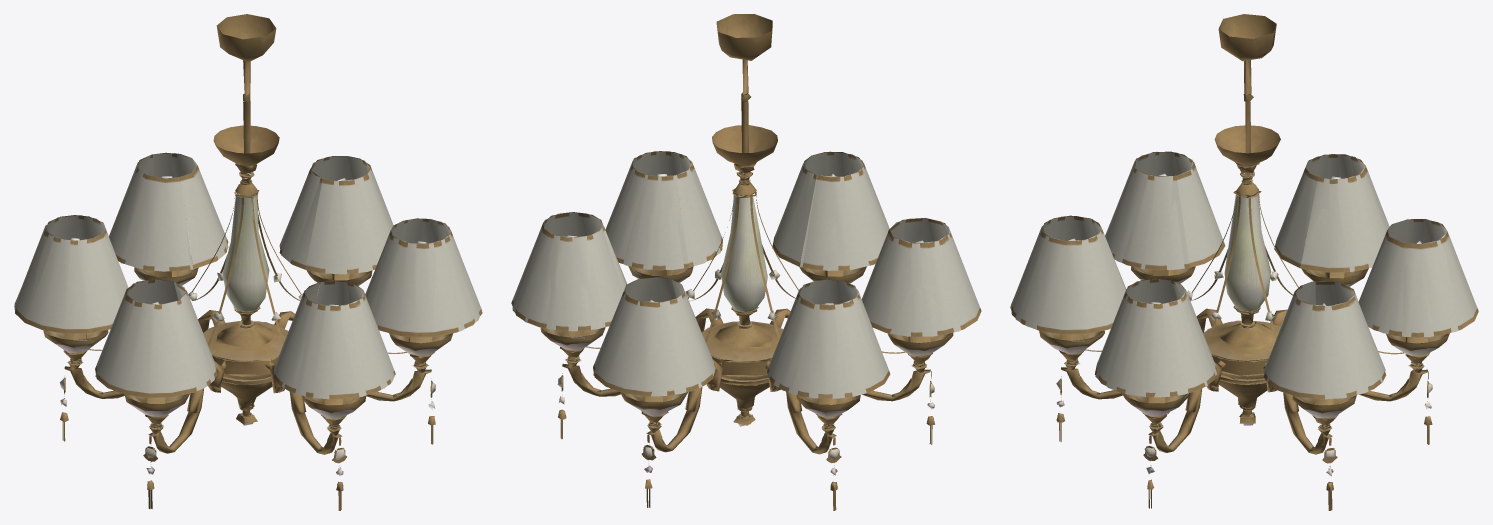
Rendered from chandelier.glb.
3 renders of one model, left to right at view 1: azimuth 30°, elevation 25°; view 2: azimuth 150°, elevation 25°; view 3: azimuth 270°, elevation 25°, orthographic.
Parts seen in each view (by area): view 1: Chandelier_01; view 2: Chandelier_01; view 3: Chandelier_01.
Part boxes in pixels (x1=…): Chandelier_01: x1=14, y1=14, x2=482, y2=510; Chandelier_01: x1=511, y1=14, x2=981, y2=510; Chandelier_01: x1=1010, y1=14, x2=1478, y2=510.
Bounding box in the file's own units: 0.7465 × 0.7983 × 0.8167.
2 materials, 1 textured.
